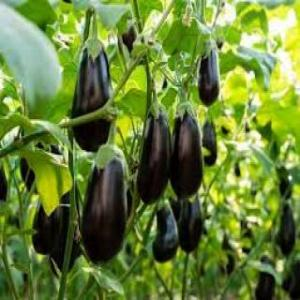eggplant: (80, 148, 126, 260), (73, 36, 115, 146), (136, 100, 168, 202), (170, 100, 204, 196), (33, 158, 63, 252), (196, 31, 220, 105), (176, 184, 200, 254), (150, 200, 176, 258)
